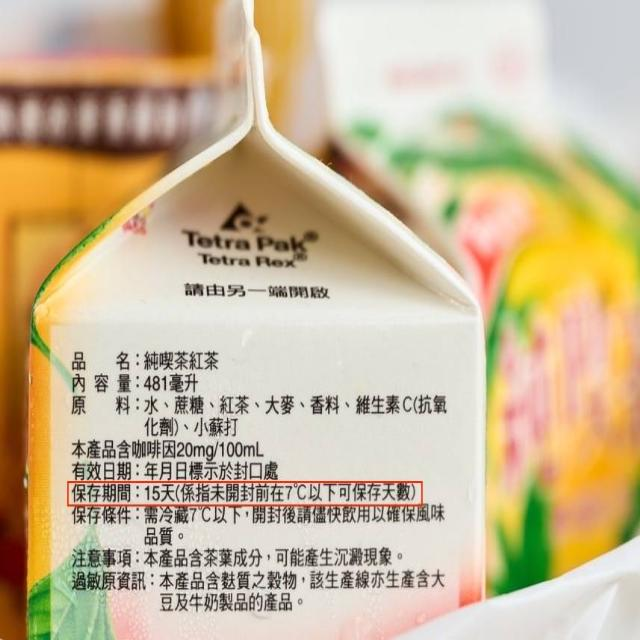cardboard: (26, 0, 483, 640)
